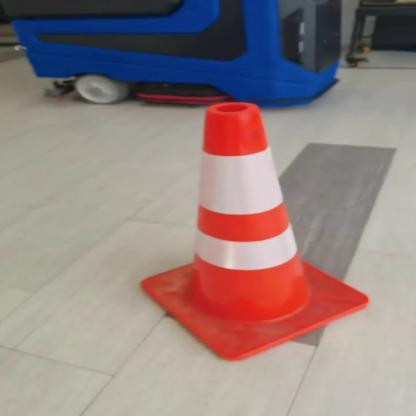cone: (130, 96, 378, 361)
